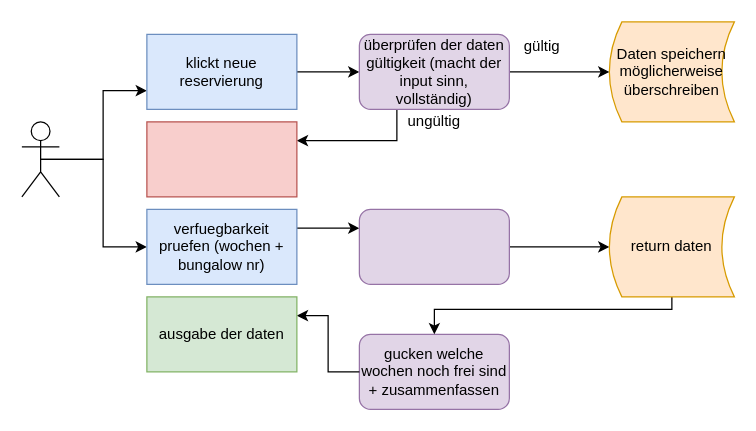
This 756x431 diagram has some shape labels left out. Each missing label, with the centre of its shape:
"abfrage der daten fuer bungalow nr und wochen" belongs at point (433, 246).
"error" belongs at point (221, 159).
"User" belongs at point (40, 159).
